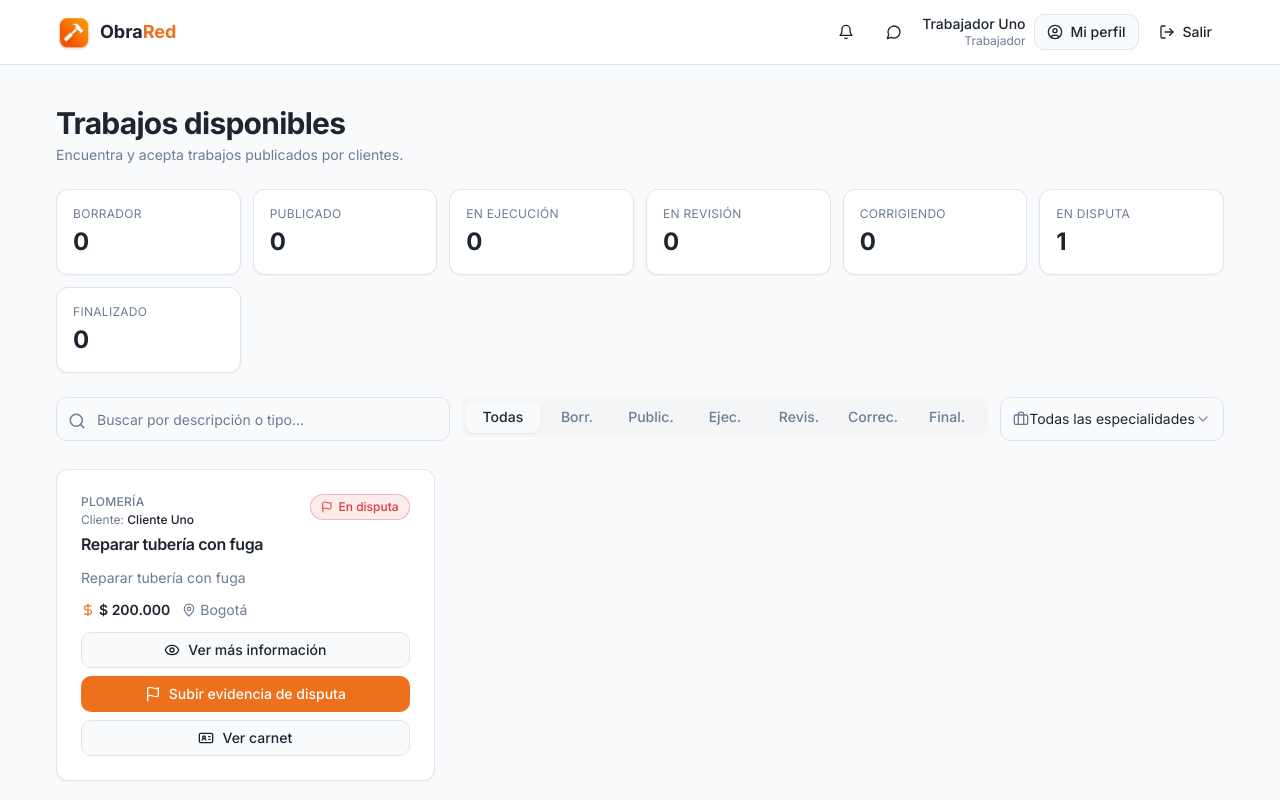
Scenario: Dashboard - acción de disputa para trabajador › abre el diálogo de evidencias (con la pestaña de disputa) al hacer clic en el botón
This screenshot has width=1280, height=800.
Click the button "Subir evidencia de disputa": (245, 694) [81, 676, 410, 712]
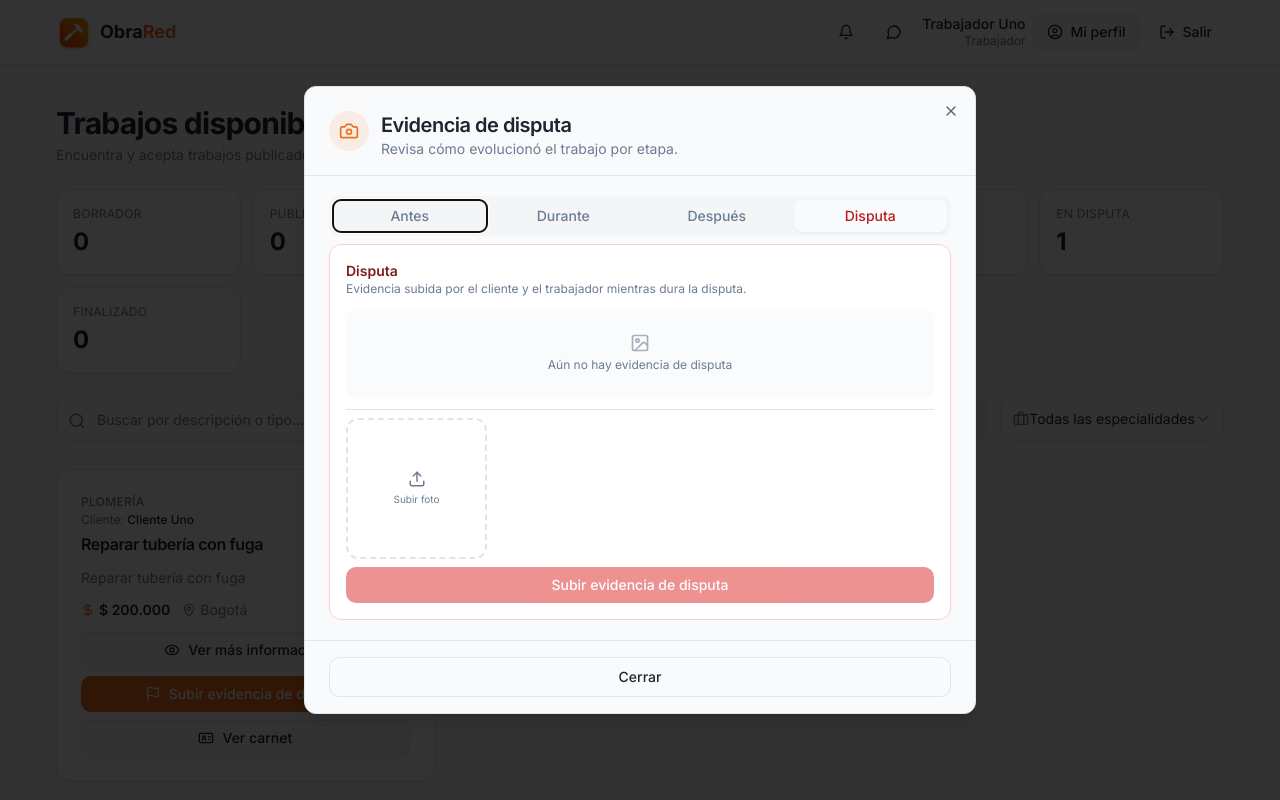
Expected: the heading "Evidencia de disputa" is shown, [381, 113, 572, 137]
